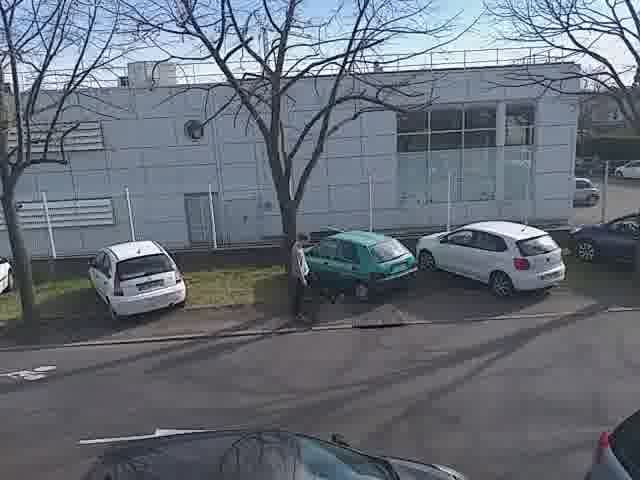persona: (286, 229, 340, 326)
